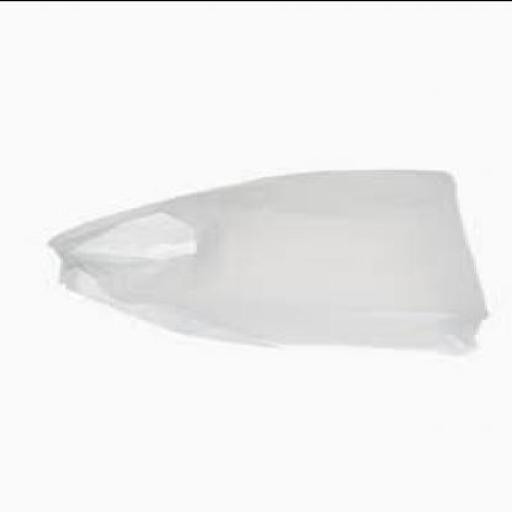plastic: (47, 168, 485, 350)
